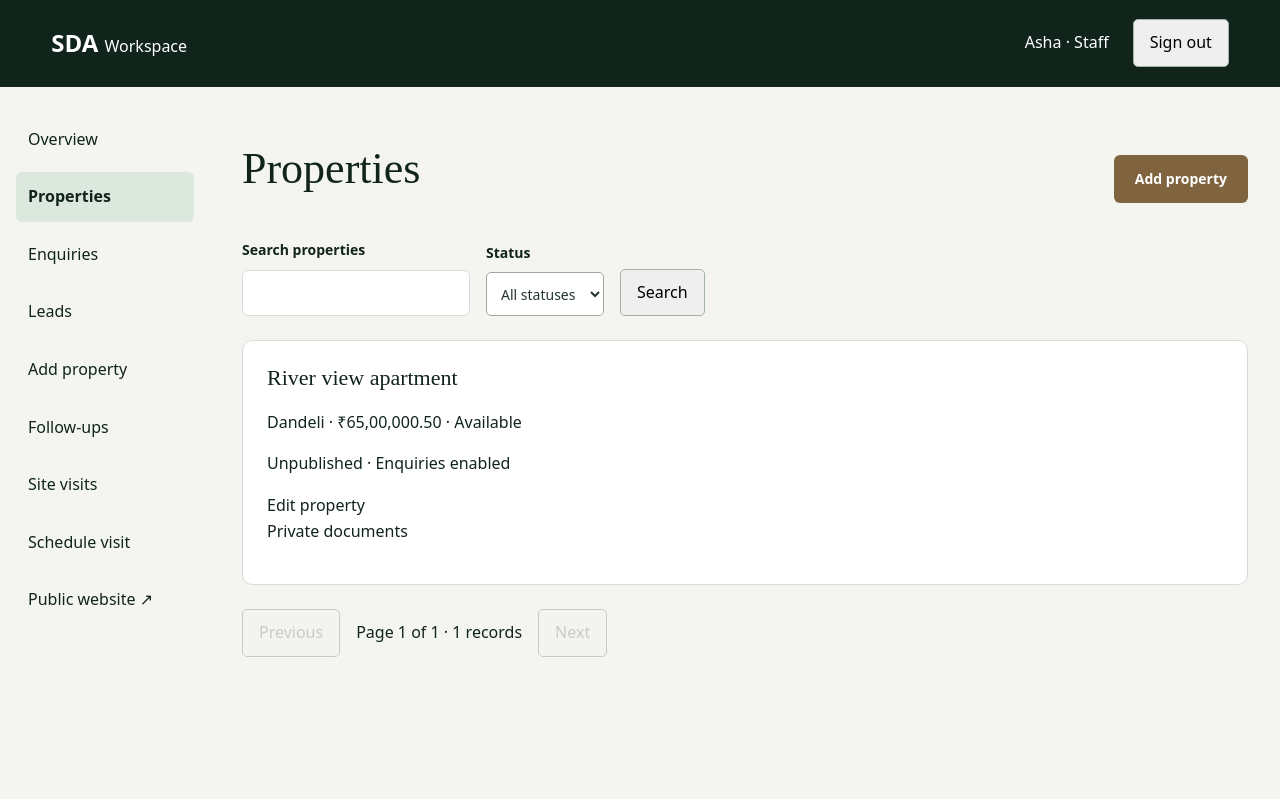
it: opens private metadata through the staff property list
The image size is (1280, 799).
Step 1. Click the link "Private documents" → [337, 531], box 267,520 -> 408,542
(page scrolled)
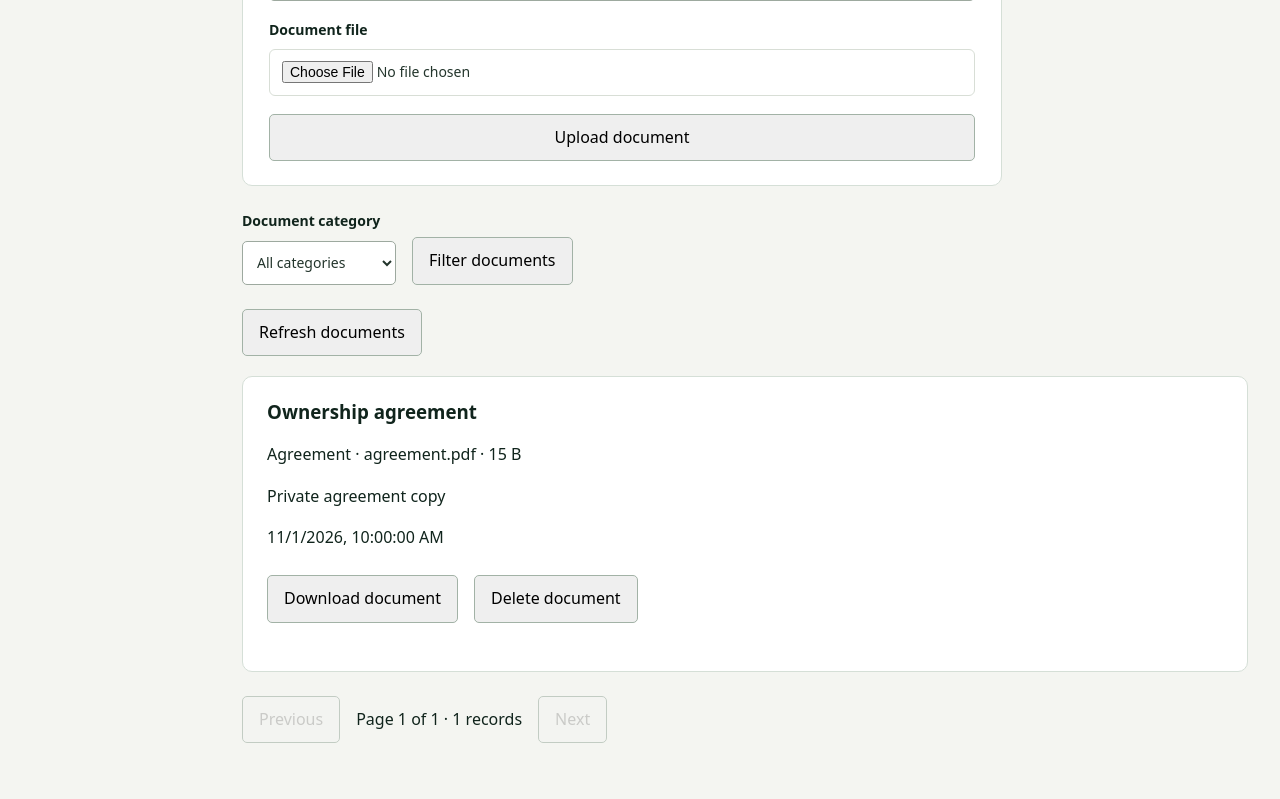
Expected: the heading "Ownership agreement" is shown, 267,399 -> 477,424
Expected: the text "Private agreement copy" is shown, 267,485 -> 446,507
Expected: the button "Download document" is shown, 267,575 -> 458,623
